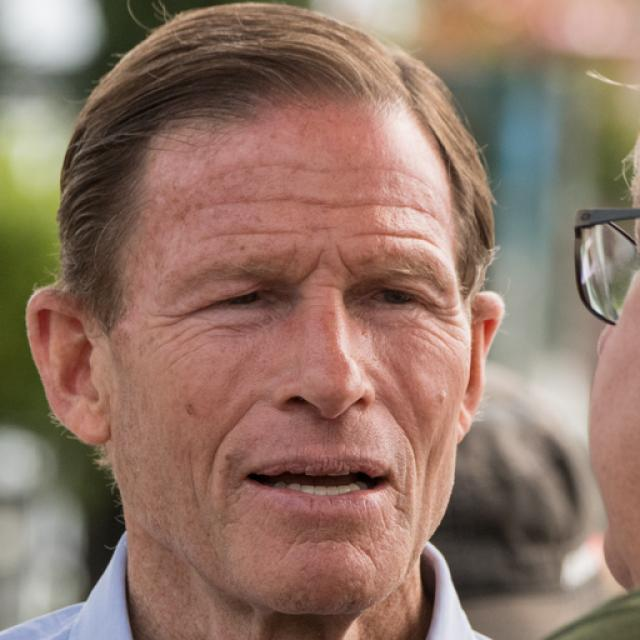Pigmentation: (139, 152, 268, 270), (300, 216, 338, 240)
